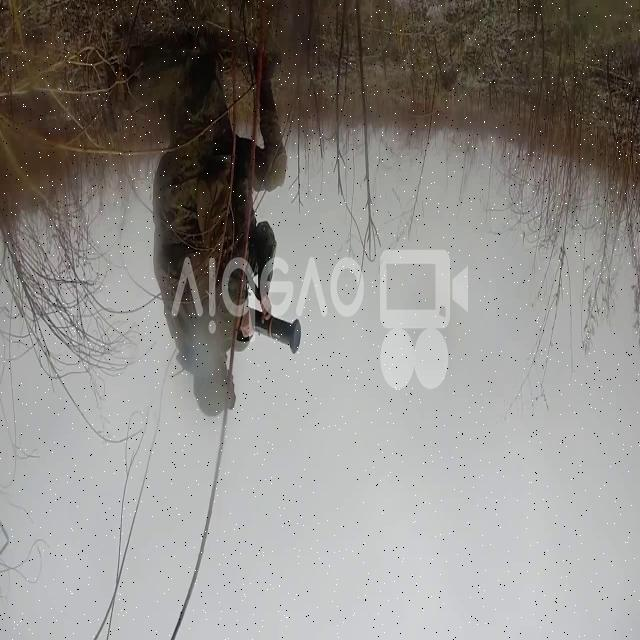bazooka: (252, 307, 304, 359)
